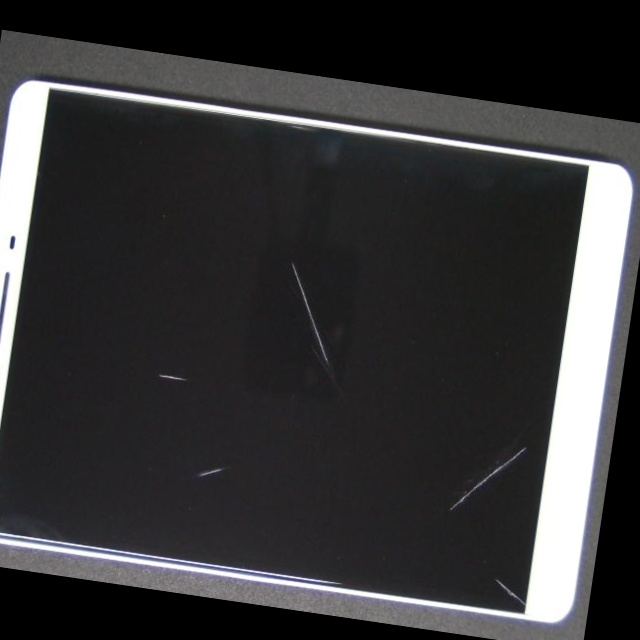scratch: (257, 191, 640, 634), (71, 79, 480, 432), (76, 229, 379, 615), (73, 212, 315, 534)
